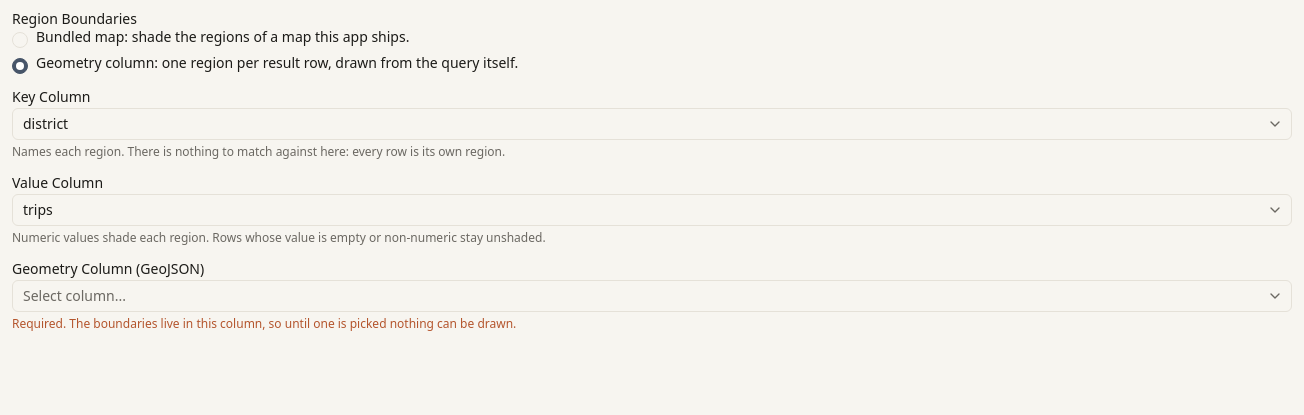
Scenario: ChoroplethEditor boundary source › warns while no geometry column is picked and stops once one is
Expected: the text "nothing can be drawn" is shown, [12,315,516,332]
Click the dropdown labelled "Select column... ▼": (74,296) [12,280,1292,312]
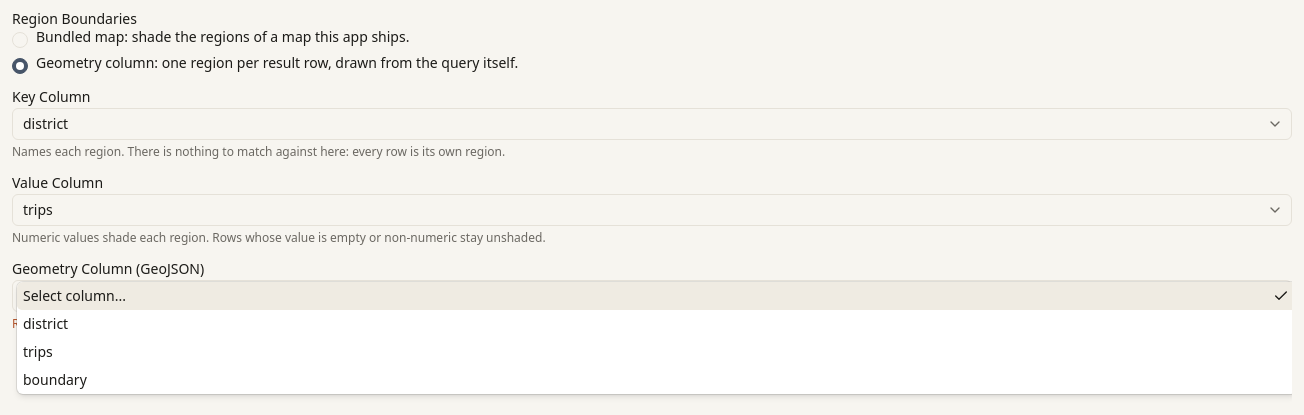
Click the option "boundary": (55,380) [23,370,87,389]
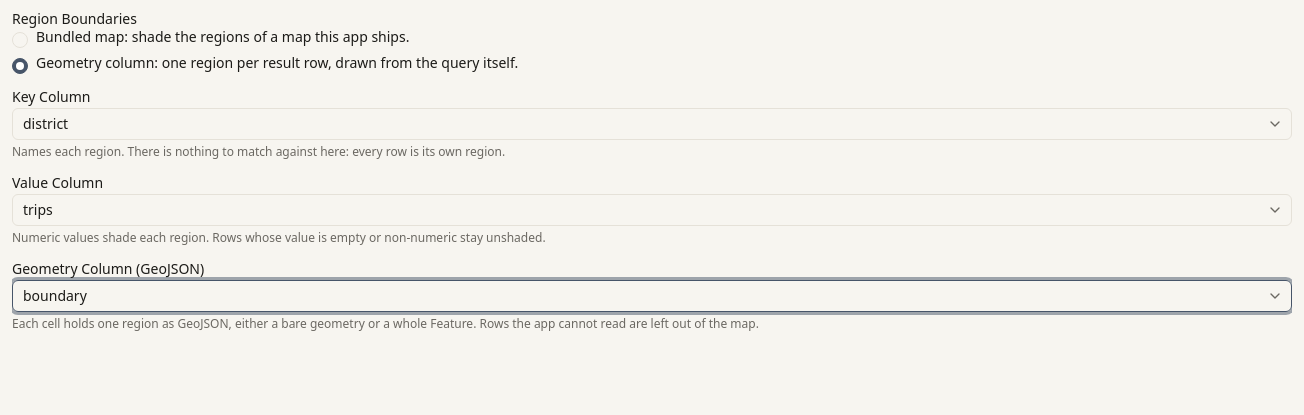
Expected: the text "nothing can be drawn" is gone
